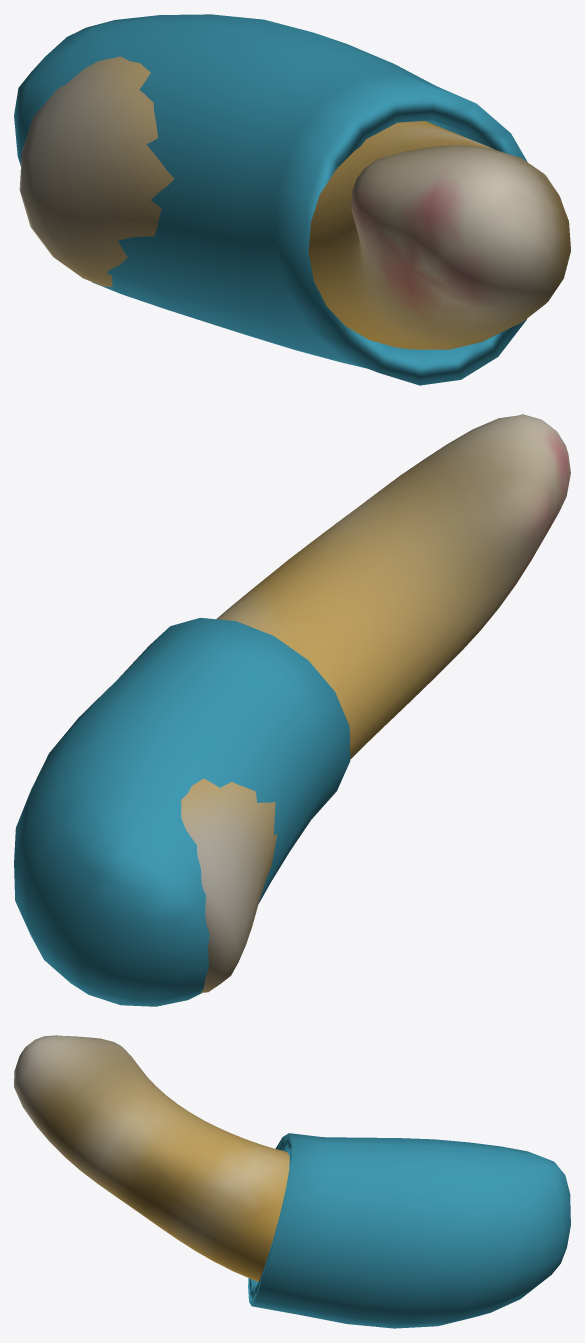
Rendered from synth_character_larm.fbx.
3 renders of one model, top to bottom at view 1: azimuth 30°, elevation 25°; view 2: azimuth 150°, elevation 25°; view 3: azimuth 270°, elevation 25°, orthographic. The views are drawn at different scales.
Parts seen in each view (by area): view 1: synth_character_larm; view 2: synth_character_larm; view 3: synth_character_larm.
Part boxes in pixels (x1,y1,x2,y2): synth_character_larm: [14, 14, 570, 385]; synth_character_larm: [14, 414, 570, 1006]; synth_character_larm: [14, 1035, 570, 1328].
Bounding box in the file's own units: 0.3362 × 0.4163 × 0.8504.
